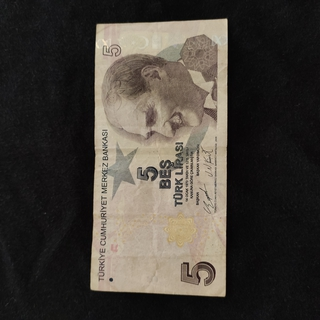5TLFront: (90, 17, 227, 298)
